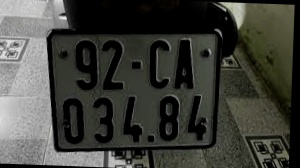Bien-so: (53, 31, 226, 156)
